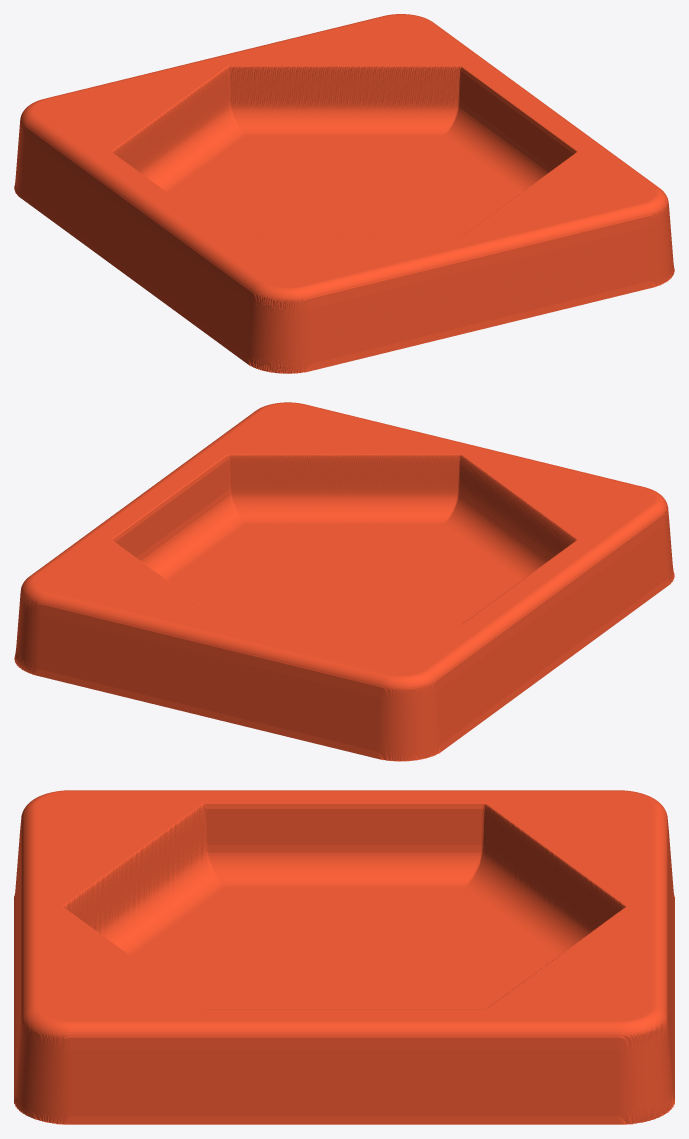
File: mold.glb
3 renders of one model, top to bottom at view 1: azimuth 30°, elevation 25°; view 2: azimuth 150°, elevation 25°; view 3: azimuth 270°, elevation 25°, orthographic. The views are drawn at different scales.
Visible parts, largest first — view 1: geometry_0; view 2: geometry_0; view 3: geometry_0.
Boxes of the visible parts, <box> form: geometry_0: <box>14,14,674,373</box>; geometry_0: <box>14,402,674,761</box>; geometry_0: <box>14,790,674,1124</box>.
Bounding box in the file's own units: 0.0934 × 0.0165 × 0.105.
